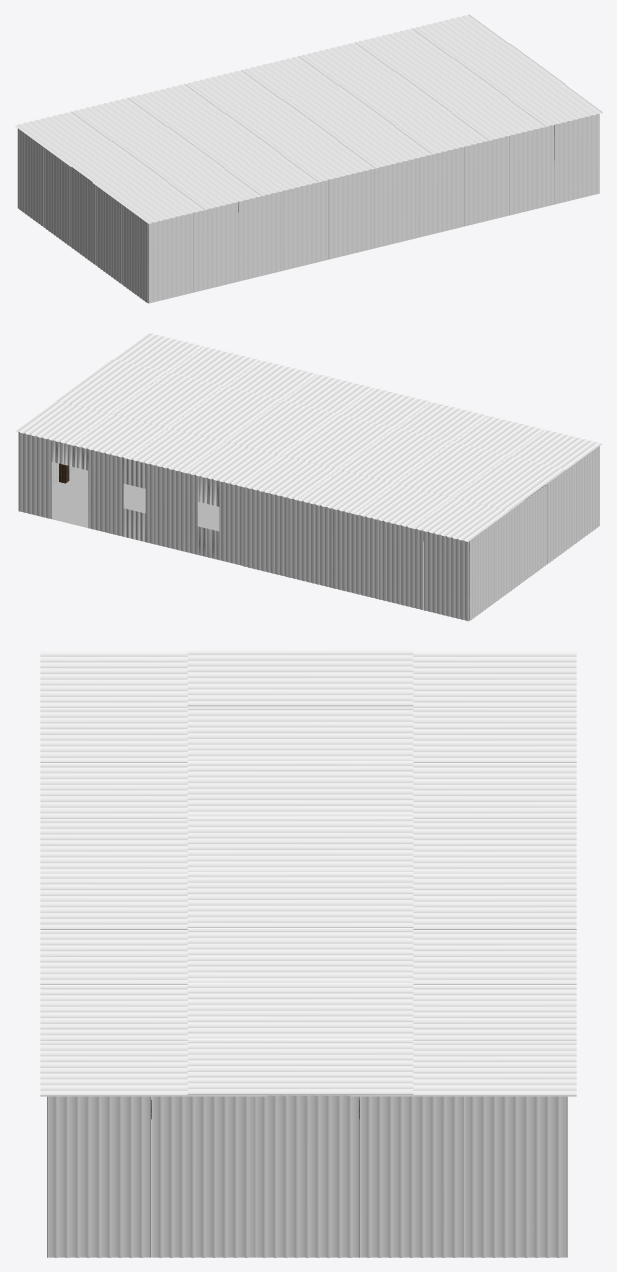
The model's file is MetalHouseLong.fbx.
3 renders of one model, top to bottom at view 1: azimuth 30°, elevation 25°; view 2: azimuth 150°, elevation 25°; view 3: azimuth 270°, elevation 25°, orthographic. The views are drawn at different scales.
Visible parts, largest first — view 1: Roof.001, Roof, Cube.002, Cube.001, Right; view 2: Roof.001, Roof, Cube.003, Front, Right, Floor, Left; view 3: Roof, Roof.001, Left.
Part boxes in pixels (<box>): Roof.001: <box>15,70,375,223</box>; Roof: <box>242,14,602,168</box>; Cube.002: <box>148,169,373,303</box>; Cube.001: <box>374,113,599,248</box>; Right: <box>17,128,148,303</box>; Roof.001: <box>241,388,601,541</box>; Roof: <box>14,332,374,486</box>; Cube.003: <box>243,487,469,621</box>; Front: <box>19,432,243,565</box>; Right: <box>469,446,599,620</box>; Floor: <box>27,468,469,620</box>; Left: <box>18,431,77,511</box>; Roof: <box>40,872,576,1096</box>; Roof.001: <box>40,650,576,873</box>; Left: <box>47,1095,567,1257</box>.
Size of the model in its own units: 16.73 by 2.91 by 8.55.
